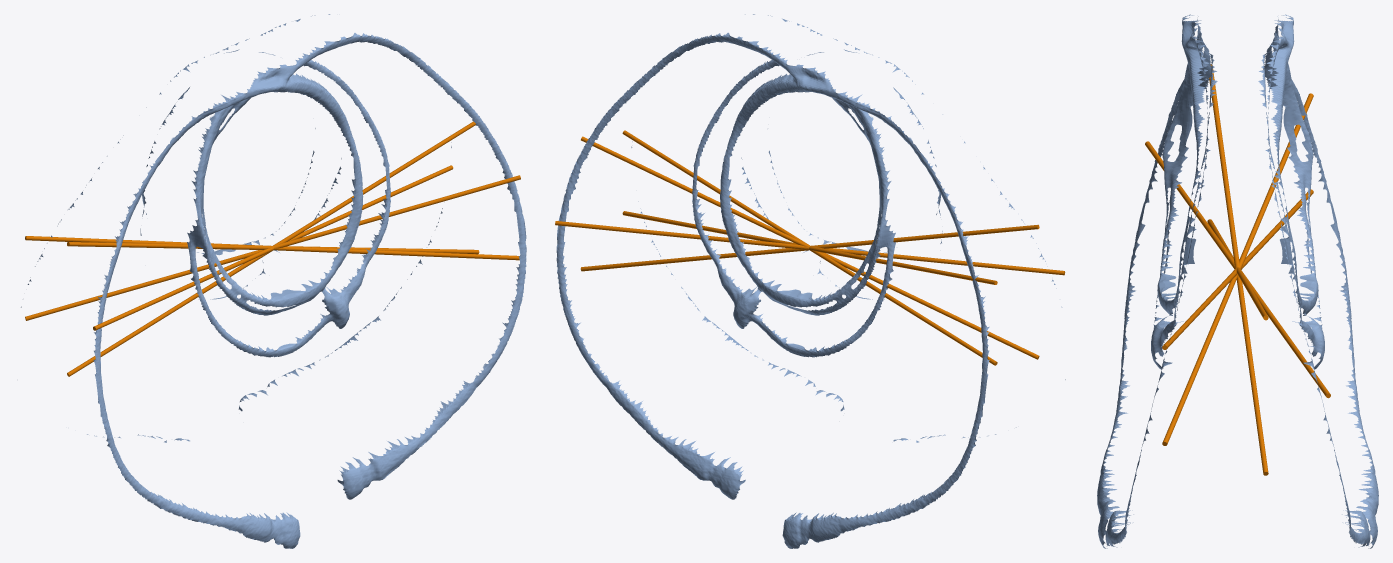
The model's file is A60026323_6150-37-520-2366_DigitalTwin.glb.
3 renders of one model, left to right at view 1: azimuth 30°, elevation 25°; view 2: azimuth 150°, elevation 25°; view 3: azimuth 270°, elevation 25°, orthographic. The views are drawn at different scales.
Visible parts, largest first — view 1: world; view 2: world; view 3: world.
Part boxes in pixels (left/top/right/bottom): world: left=21, top=14, right=526, bottom=548; world: left=555, top=14, right=1065, bottom=548; world: left=1097, top=14, right=1378, bottom=548.
Bounding box in the file's own units: 457 × 461 × 215.
